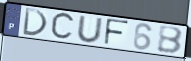6: (131, 22, 155, 51)
B: (156, 25, 184, 55)
C: (49, 11, 77, 42)
D: (21, 7, 49, 38)
F: (103, 17, 131, 47)
U: (76, 15, 104, 44)
